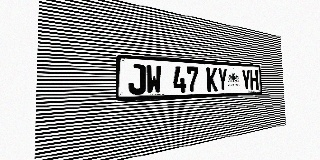4: (173, 66, 186, 93)
7: (186, 66, 199, 92)
H: (250, 70, 258, 90)
J: (128, 63, 146, 95)
K: (206, 67, 218, 92)
W: (146, 64, 162, 94)
Y: (217, 68, 228, 91), (242, 69, 251, 90)
